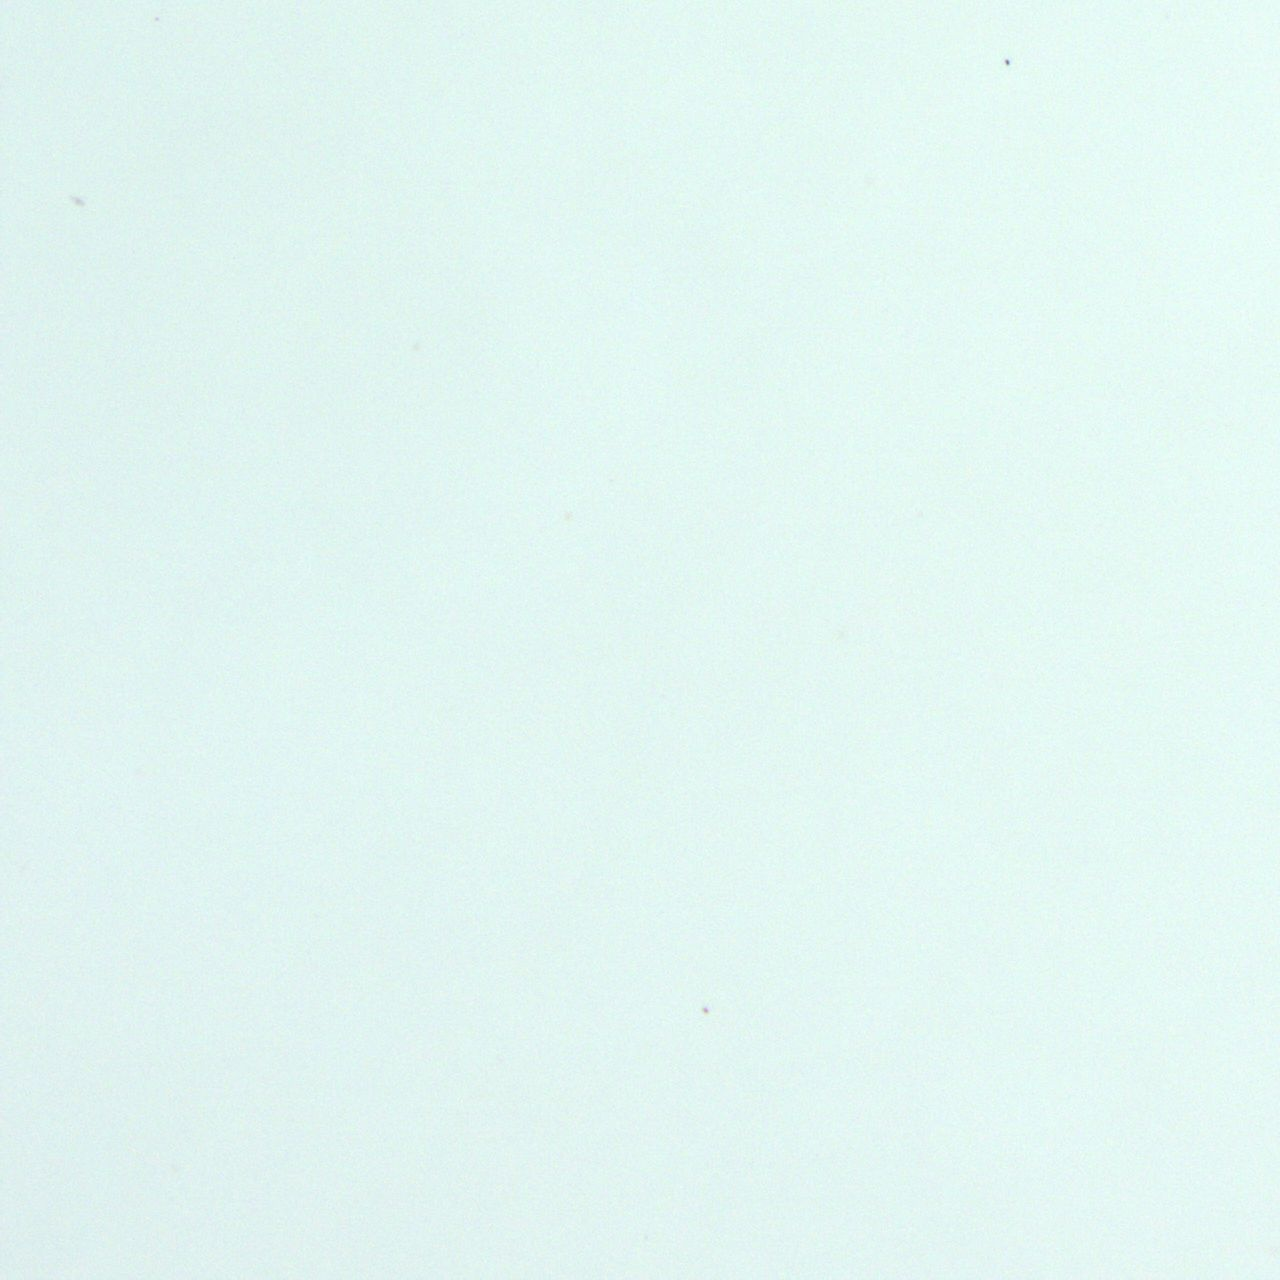dust: (702, 1007, 710, 1014), (1004, 59, 1009, 64)
